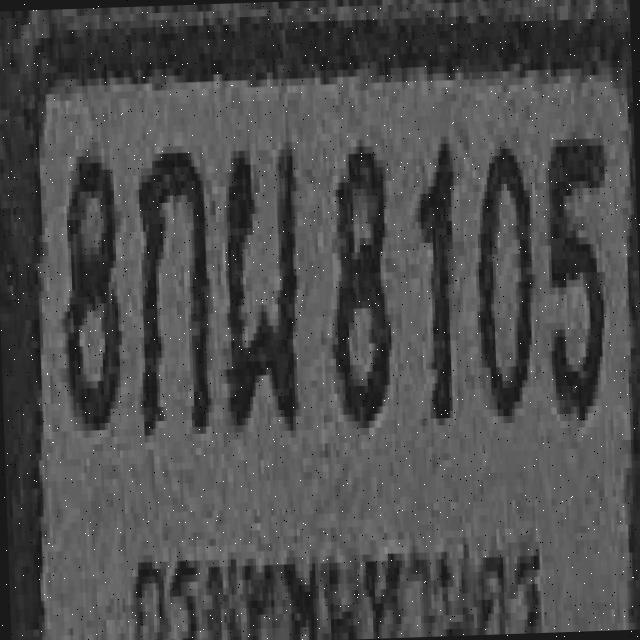0: (471, 140, 537, 417)
1: (415, 136, 461, 419)
10GorGai: (130, 141, 212, 432)
37PhorPhueng: (218, 138, 304, 429)
5: (540, 128, 612, 418)
8: (324, 138, 394, 422), (57, 152, 123, 428)
Bangkok: (119, 519, 552, 640)
